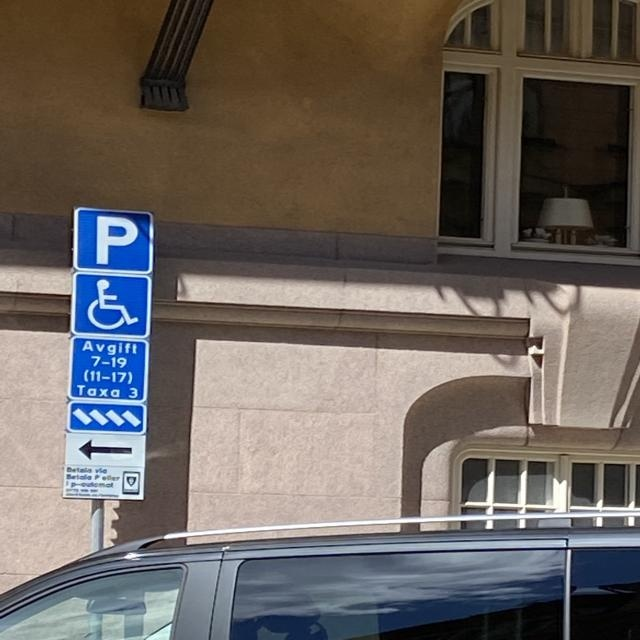P-skylt: (68, 203, 157, 276)
